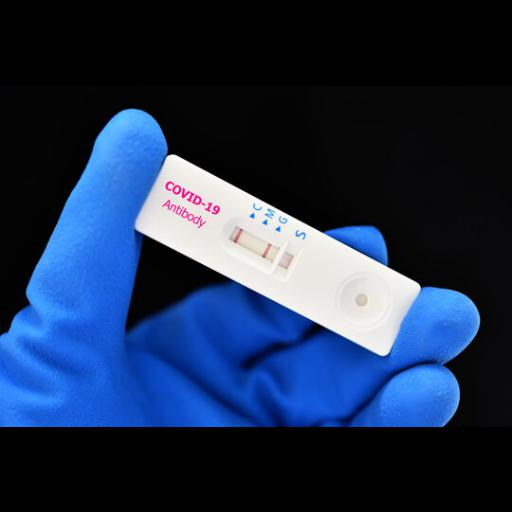Pos: (132, 151, 425, 359)
